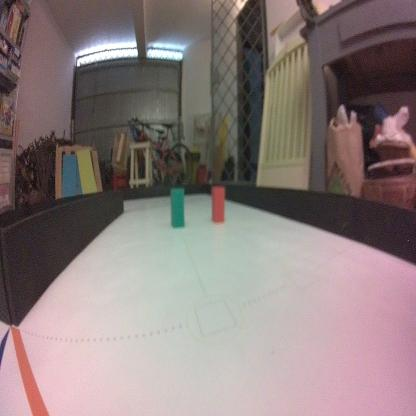green: (169, 186, 185, 229)
red: (210, 186, 226, 224)
